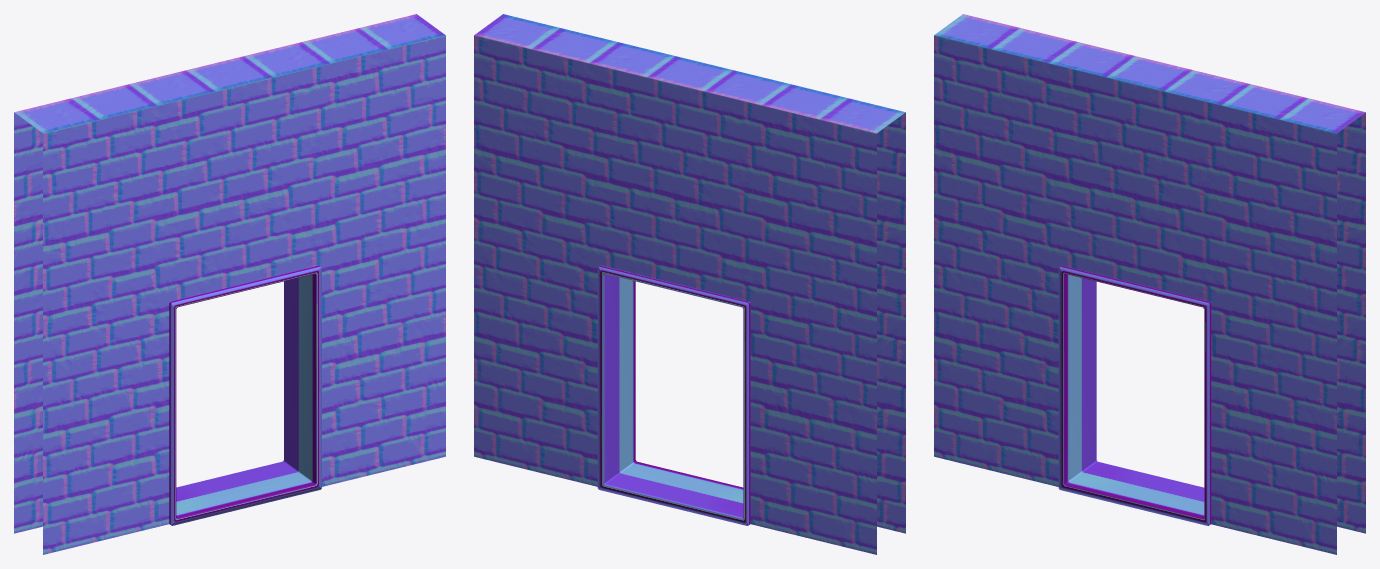
Rendered from sm_wall_straight_04.fbx.
The picture shows the model from 3 angles, left to right: view 1: azimuth 30°, elevation 25°; view 2: azimuth 150°, elevation 25°; view 3: azimuth 330°, elevation 25°; orthographic projection.
Visible parts, largest first — view 1: sm_wall_straight_04; view 2: sm_wall_straight_04; view 3: sm_wall_straight_04.
Part boxes in pixels (<box>): sm_wall_straight_04: <box>14,14,445,554</box>; sm_wall_straight_04: <box>474,14,905,554</box>; sm_wall_straight_04: <box>934,14,1365,554</box>.
Bounding box in the file's own units: 400 × 401 × 55.8.
